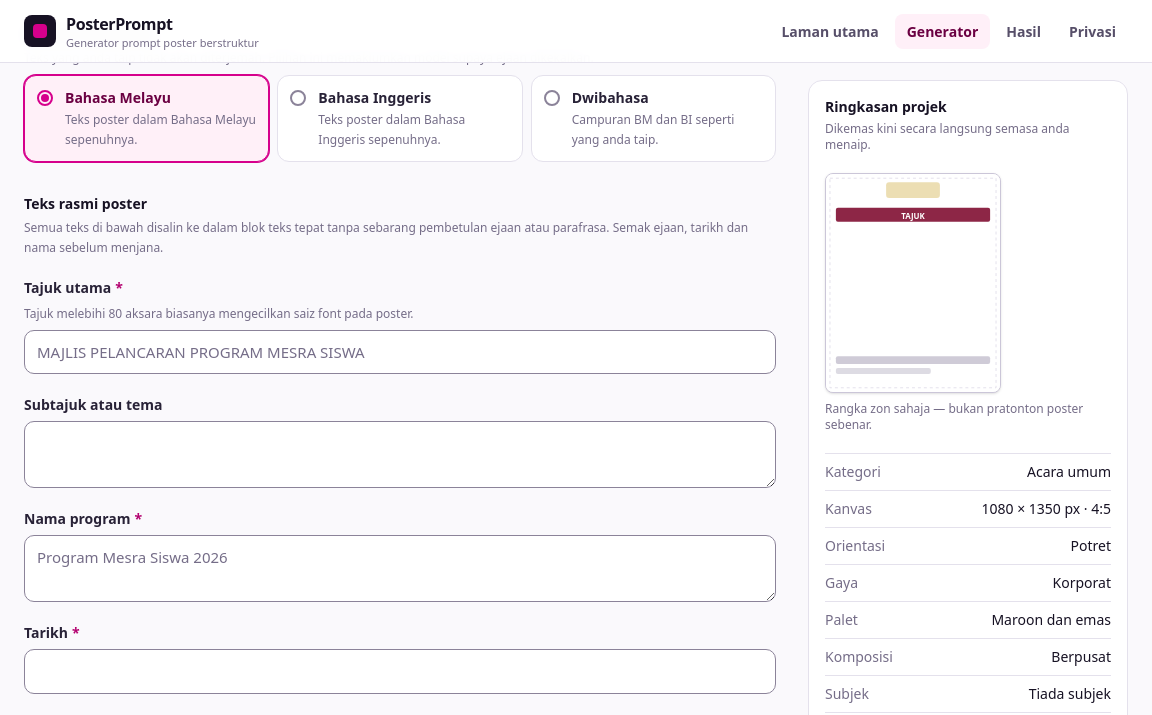
Scenario: wizard — kaunter aksara (§5.5) › menyembunyikan kaunter sehingga medan difokus
(page scrolled)
Expected: the text "0 / 120" is not shown
Click the field labelled "Tajuk utama*" at (400, 352), box top-left (24, 330), bottom-right (776, 374)
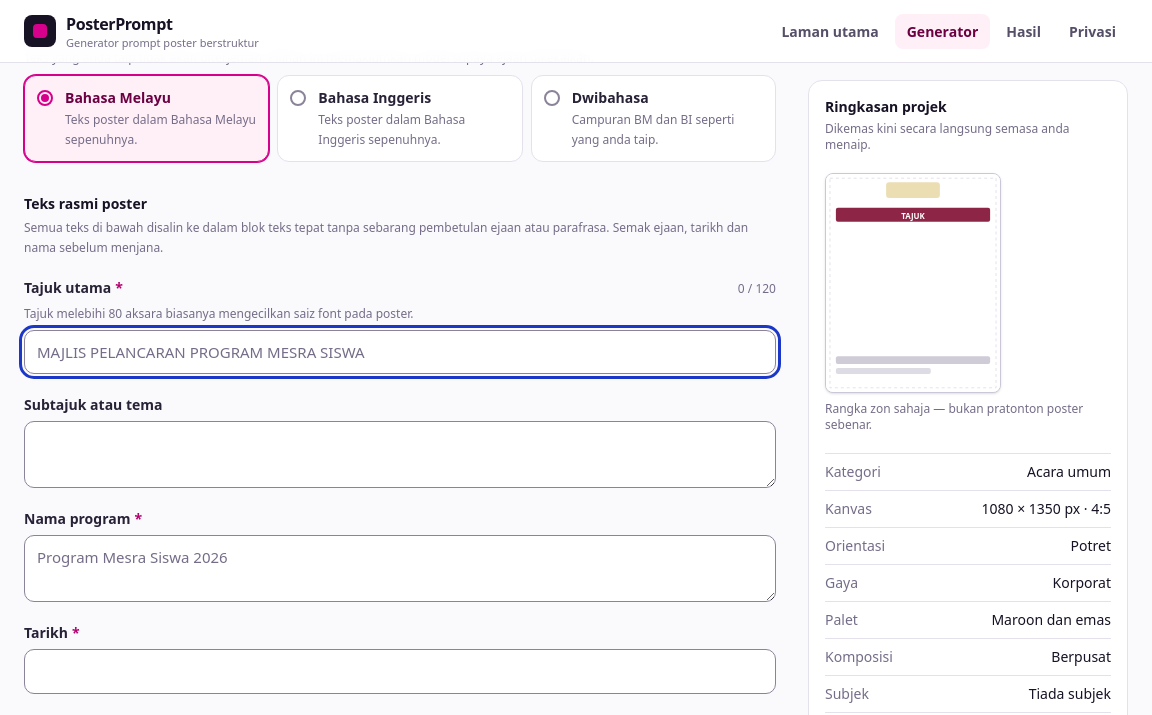
Now the text "0 / 120" is shown, box top-left (738, 281), bottom-right (776, 297)
